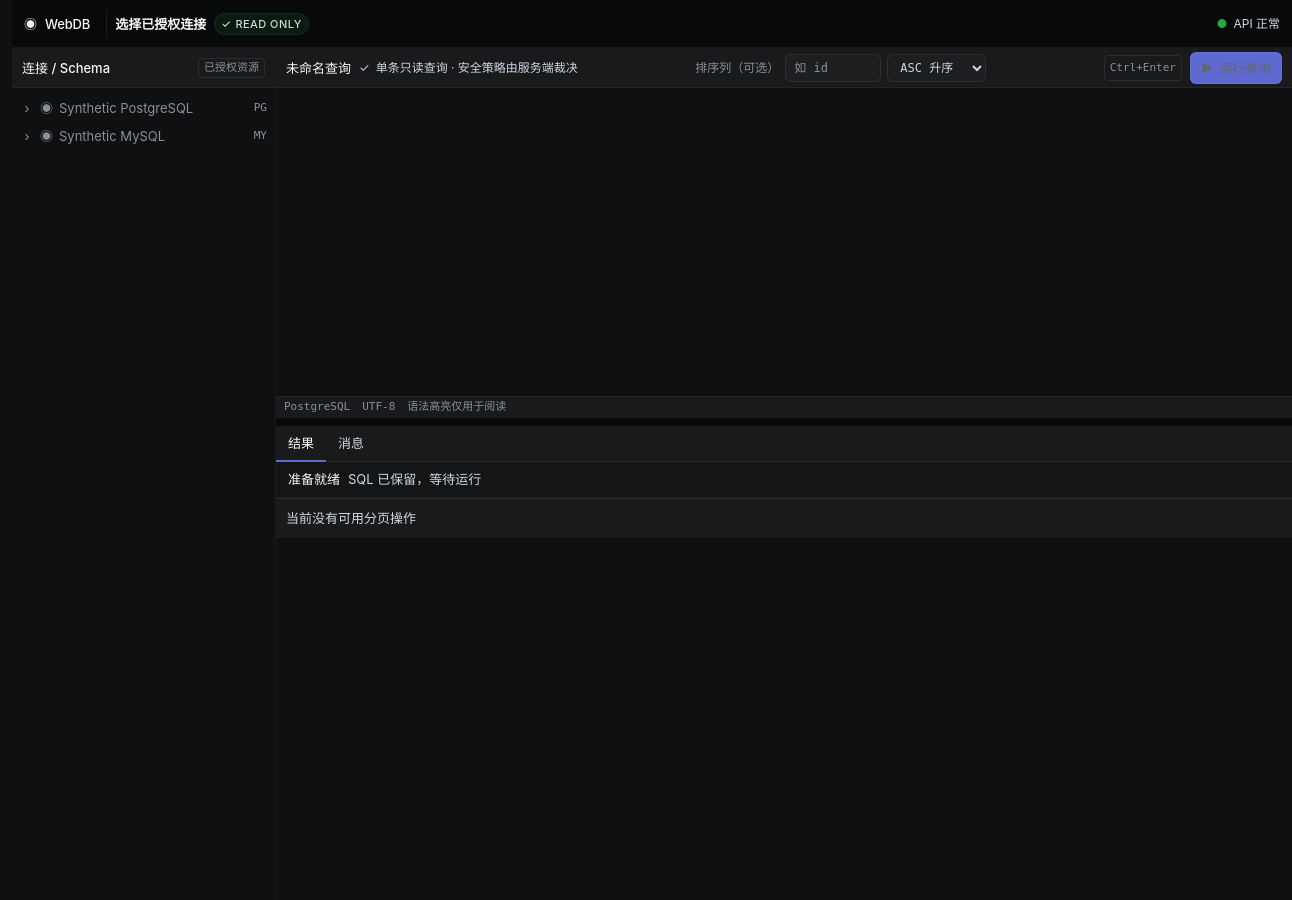
Test: P0 workbench › aborts old schema transport when a different connection is selected
This screenshot has width=1292, height=900.
Click the list item "› ◉ Synthetic PostgreSQL PG".
click(144, 108)  # box [12,94,275,122]
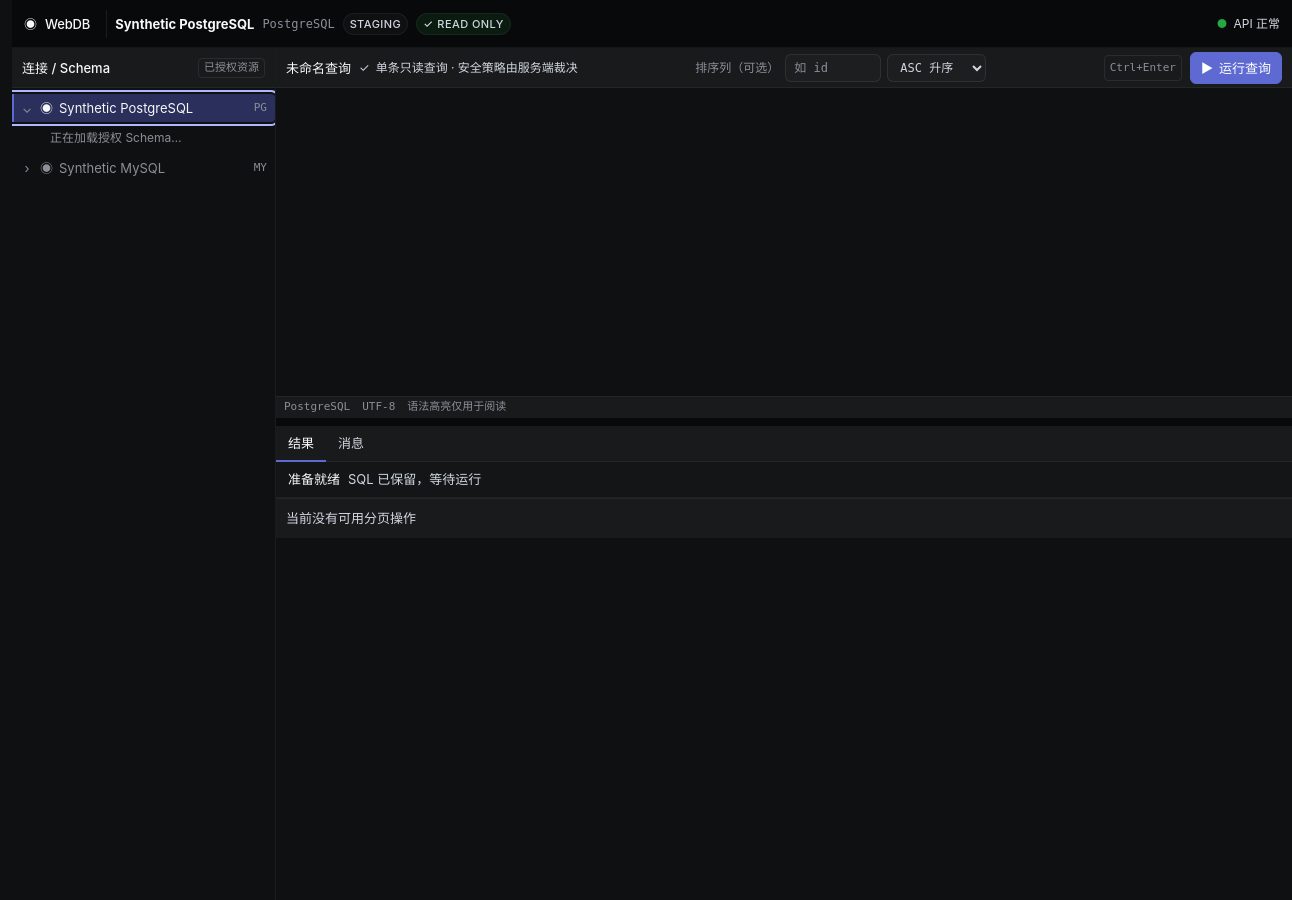
Click the list item "› ◉ Synthetic MySQL MY".
click(144, 168)  # box [12,154,275,182]
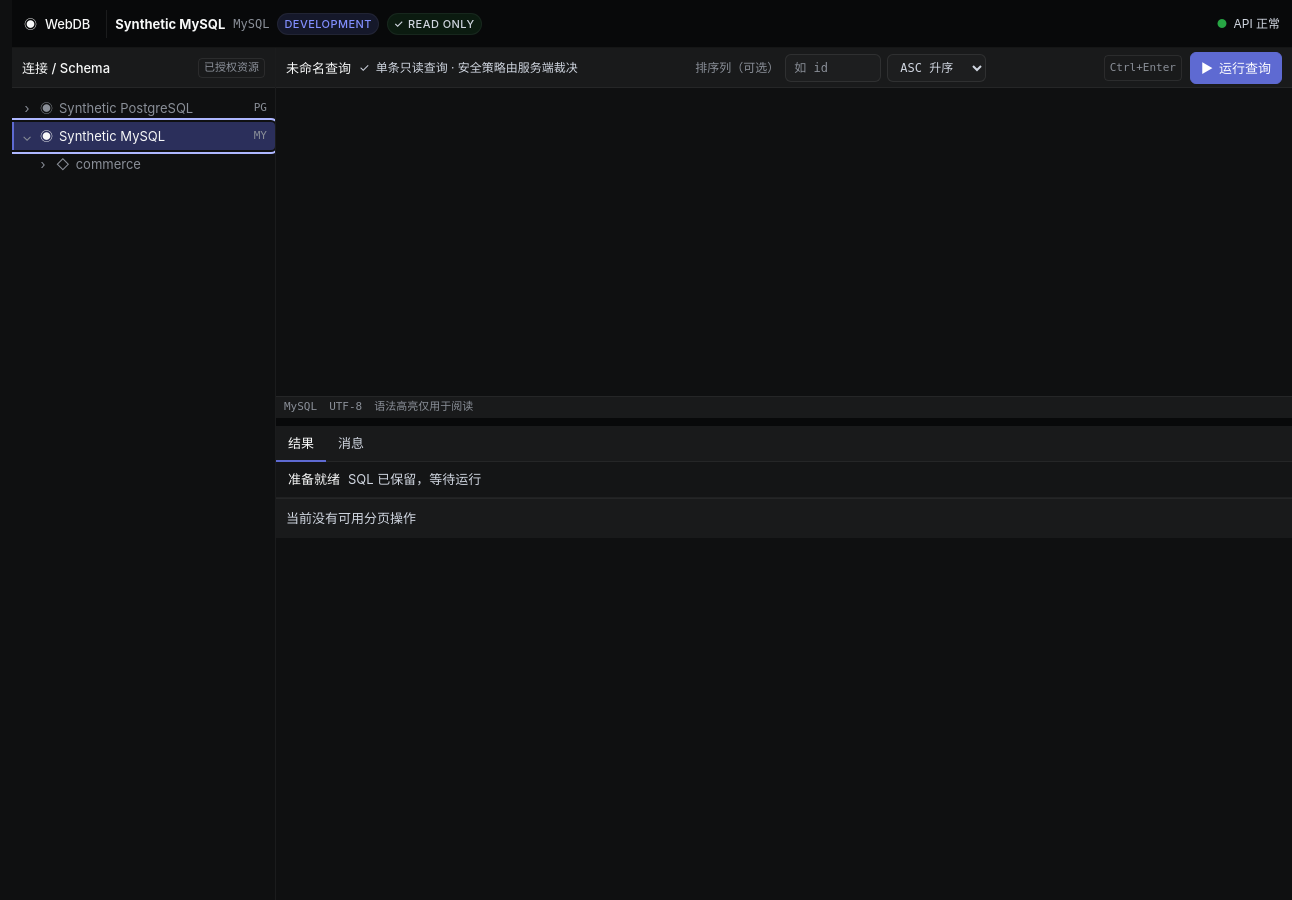
Expected: the list item "commerce" is shown, [12,150,275,178]
